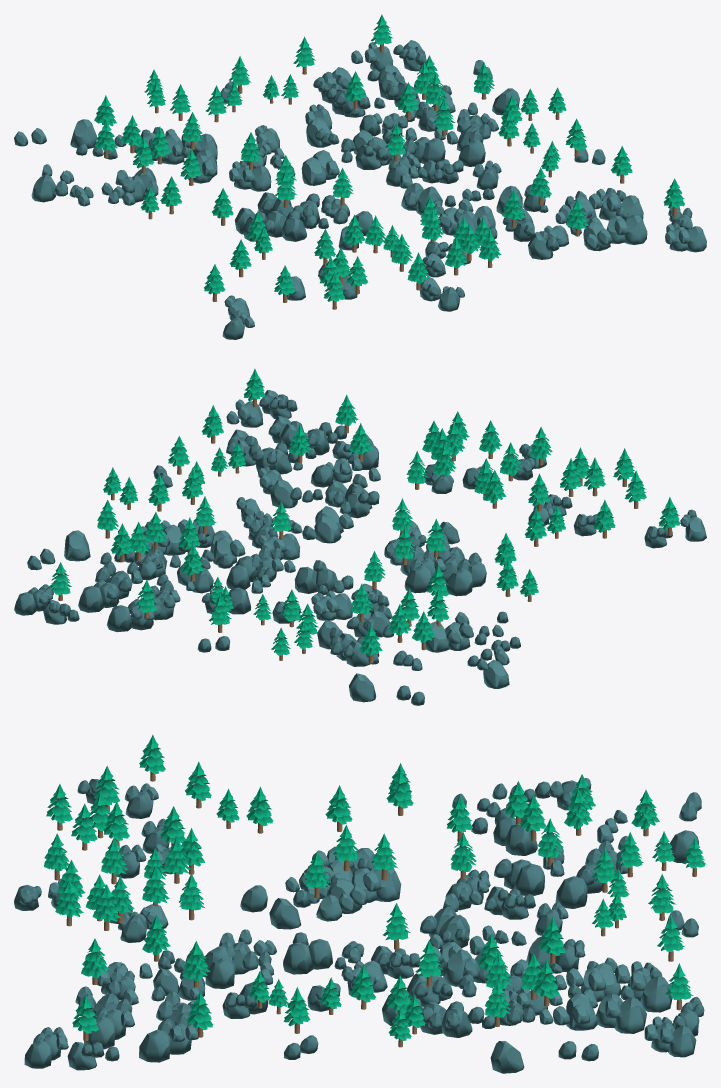
Rendered from forest.fbx.
The picture shows the model from 3 angles, top to bottom: view 1: azimuth 30°, elevation 25°; view 2: azimuth 150°, elevation 25°; view 3: azimuth 270°, elevation 25°; orthographic projection. The views are drawn at different scales.
Visible parts, largest first — view 1: rock_2.657|defaultMaterial.005|Dupli|, rock_2.487|defaultMaterial.005|Dupli|, rock_2.639|defaultMaterial.005|Dupli|, rock_2.396|defaultMaterial.005|Dupli|, rock_2.503|defaultMaterial.005|Dupli|; view 2: rock_2.500|defaultMaterial.005|Dupli|, rock_2.657|defaultMaterial.005|Dupli|, rock_2.532|defaultMaterial.005|Dupli|, rock_2.520|defaultMaterial.005|Dupli|, rock_2.503|defaultMaterial.005|Dupli|, rock_2.478|defaultMaterial.005|Dupli|, rock_2.557|defaultMaterial.005|Dupli|, rock_2.429|defaultMaterial.005|Dupli|, rock_2.576|defaultMaterial.005|Dupli|, rock_2.642|defaultMaterial.005|Dupli|; view 3: rock_2.557|defaultMaterial.005|Dupli|, rock_2.576|defaultMaterial.005|Dupli|, rock_2.415|defaultMaterial.005|Dupli|, rock_2.500|defaultMaterial.005|Dupli|, rock_2.648|defaultMaterial.005|Dupli|, rock_2.481|defaultMaterial.005|Dupli|, rock_2.635|defaultMaterial.005|Dupli|, rock_2.527|defaultMaterial.005|Dupli|, rock_2.515|defaultMaterial.005|Dupli|, rock_2.426|defaultMaterial.005|Dupli|, tree.102|Cylinder|Dupli|, tree.104|Cylinder|Dupli| (+61 smaller).
Part boxes in pixels (x1,y1,x2,y2): rock_2.657|defaultMaterial.005|Dupli|: (70,119,96,148); rock_2.487|defaultMaterial.005|Dupli|: (458,140,485,166); rock_2.639|defaultMaterial.005|Dupli|: (301,157,325,185); rock_2.396|defaultMaterial.005|Dupli|: (624,214,647,244); rock_2.503|defaultMaterial.005|Dupli|: (31,174,55,202); rock_2.500|defaultMaterial.005|Dupli|: (64,530,90,561); rock_2.657|defaultMaterial.005|Dupli|: (349,673,376,702); rock_2.532|defaultMaterial.005|Dupli|: (446,568,472,596); rock_2.520|defaultMaterial.005|Dupli|: (404,565,431,593); rock_2.503|defaultMaterial.005|Dupli|: (483,659,509,688); rock_2.478|defaultMaterial.005|Dupli|: (314,515,341,543); rock_2.557|defaultMaterial.005|Dupli|: (78,585,103,612); rock_2.429|defaultMaterial.005|Dupli|: (270,479,297,508); rock_2.576|defaultMaterial.005|Dupli|: (107,605,131,632); rock_2.642|defaultMaterial.005|Dupli|: (294,566,317,593); rock_2.557|defaultMaterial.005|Dupli|: (614,997,646,1033); rock_2.576|defaultMaterial.005|Dupli|: (640,975,672,1012); rock_2.415|defaultMaterial.005|Dupli|: (139,1029,170,1062); rock_2.500|defaultMaterial.005|Dupli|: (490,1041,524,1073); rock_2.648|defaultMaterial.005|Dupli|: (555,876,587,908); rock_2.481|defaultMaterial.005|Dupli|: (283,942,313,974); rock_2.635|defaultMaterial.005|Dupli|: (513,863,544,895); rock_2.527|defaultMaterial.005|Dupli|: (269,898,301,929); rock_2.515|defaultMaterial.005|Dupli|: (505,824,537,855); rock_2.426|defaultMaterial.005|Dupli|: (205,958,235,988); tree.102|Cylinder|Dupli|: (81,938,108,984); tree.104|Cylinder|Dupli|: (142,915,170,961).
Bounding box in the file's own units: 5285 × 636 × 5552.
1 material, 1 textured.
